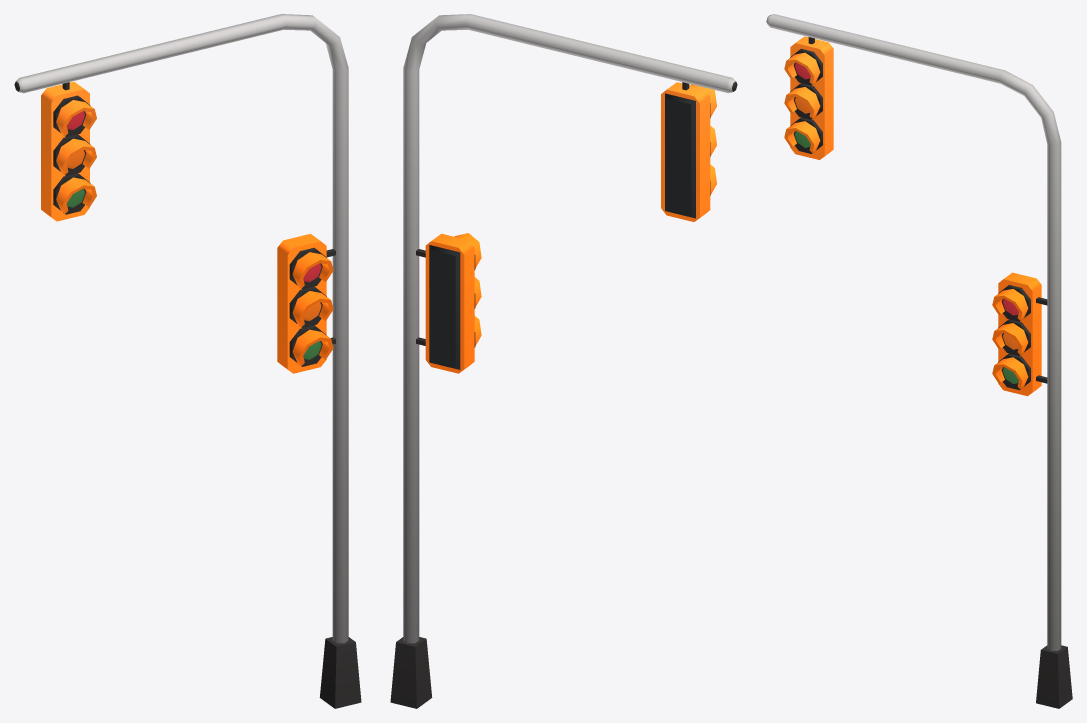
The model's file is Traffic_Light_03.glb.
3 renders of one model, left to right at view 1: azimuth 30°, elevation 25°; view 2: azimuth 150°, elevation 25°; view 3: azimuth 330°, elevation 25°, orthographic. The views are drawn at different scales.
Parts seen in each view (by area): view 1: Traffic_Light_03; view 2: Traffic_Light_03; view 3: Traffic_Light_03.
Part boxes in pixels (x1,y1,x2,y2): Traffic_Light_03: (14, 14, 361, 708); Traffic_Light_03: (390, 14, 737, 708); Traffic_Light_03: (766, 14, 1072, 708).
Bounding box in the file's own units: 3.74 × 7.39 × 0.4991.
Materials: 2 (2 with a texture image).
